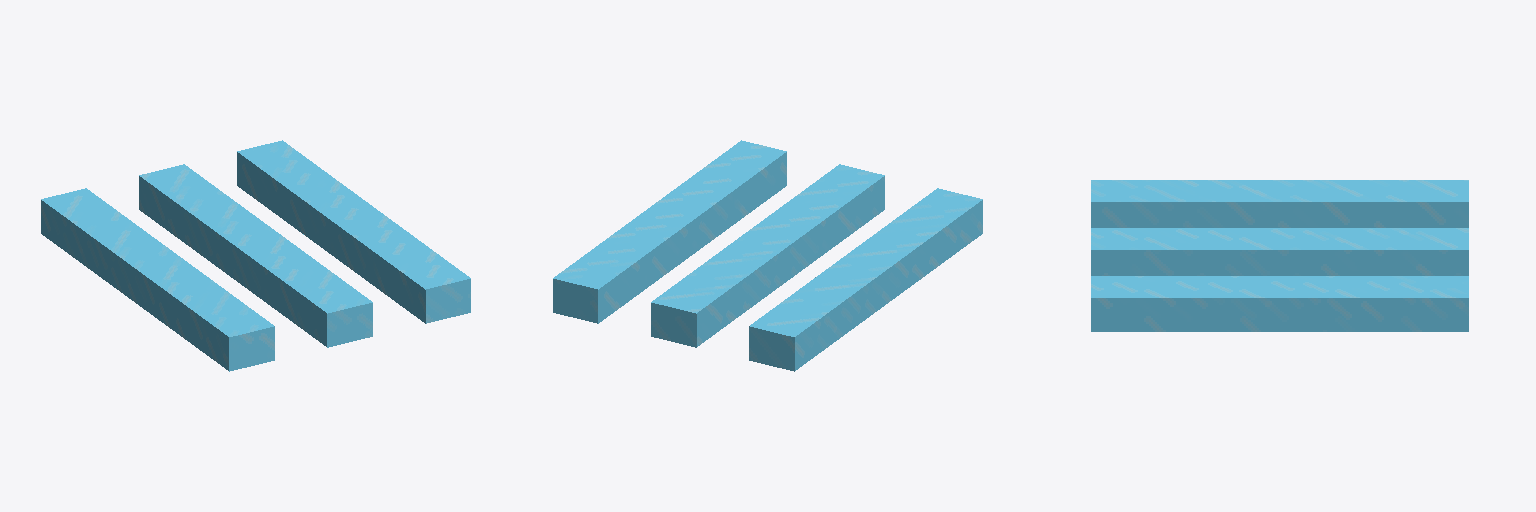
3 renders of one model, left to right at view 1: azimuth 30°, elevation 25°; view 2: azimuth 150°, elevation 25°; view 3: azimuth 270°, elevation 25°, orthographic.
Visible parts, largest first — view 1: 立方体; view 2: 立方体; view 3: 立方体.
Boxes of the visible parts, <box> form: 立方体: <box>41,140,470,371</box>; 立方体: <box>553,140,982,371</box>; 立方体: <box>1091,180,1468,331</box>.
Bounding box in the file's own units: 0.74 × 0.1 × 1.
Materials: 1 (1 with a texture image).